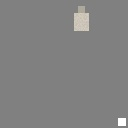supply_truck: (74, 13, 89, 31)
